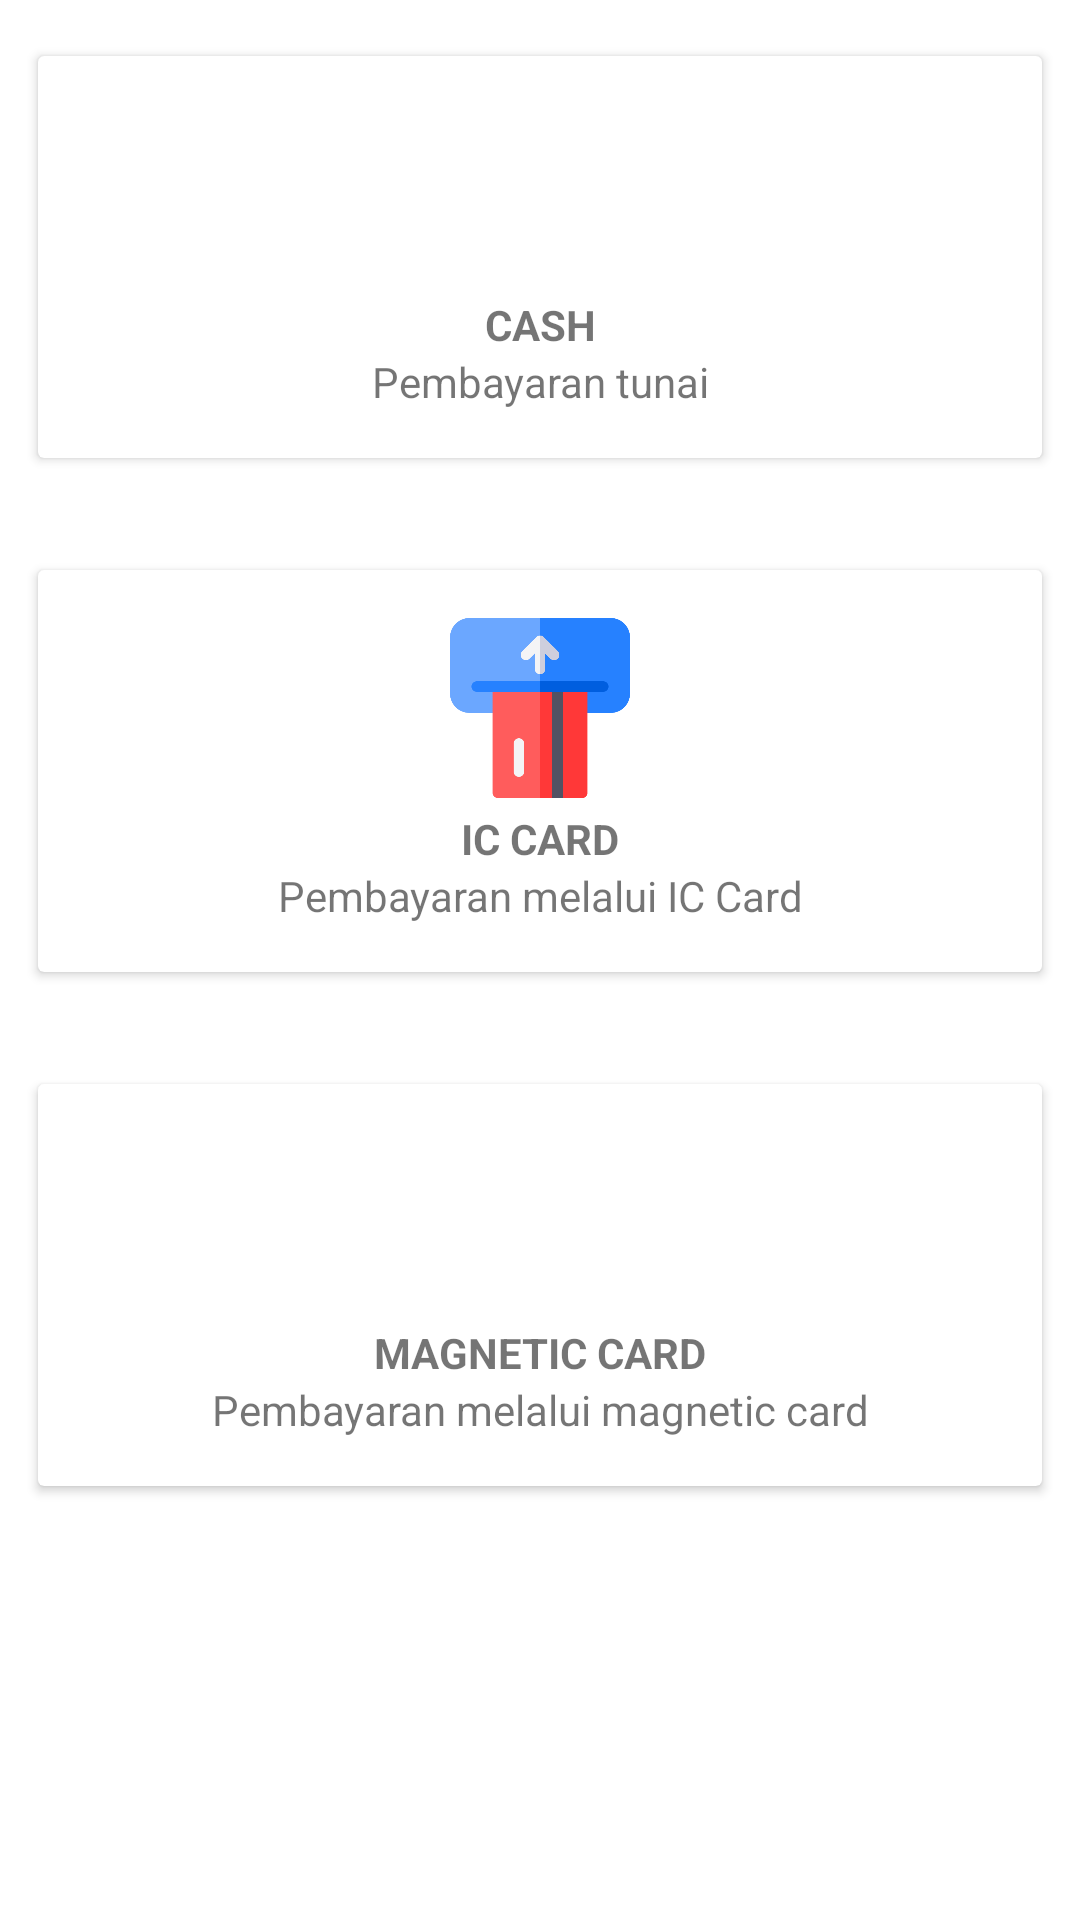

Icon bounding boxes for this 1080*1920 phone screenshot, format (x1, y1, x2, y2):
insert card: (450, 618, 630, 798)
